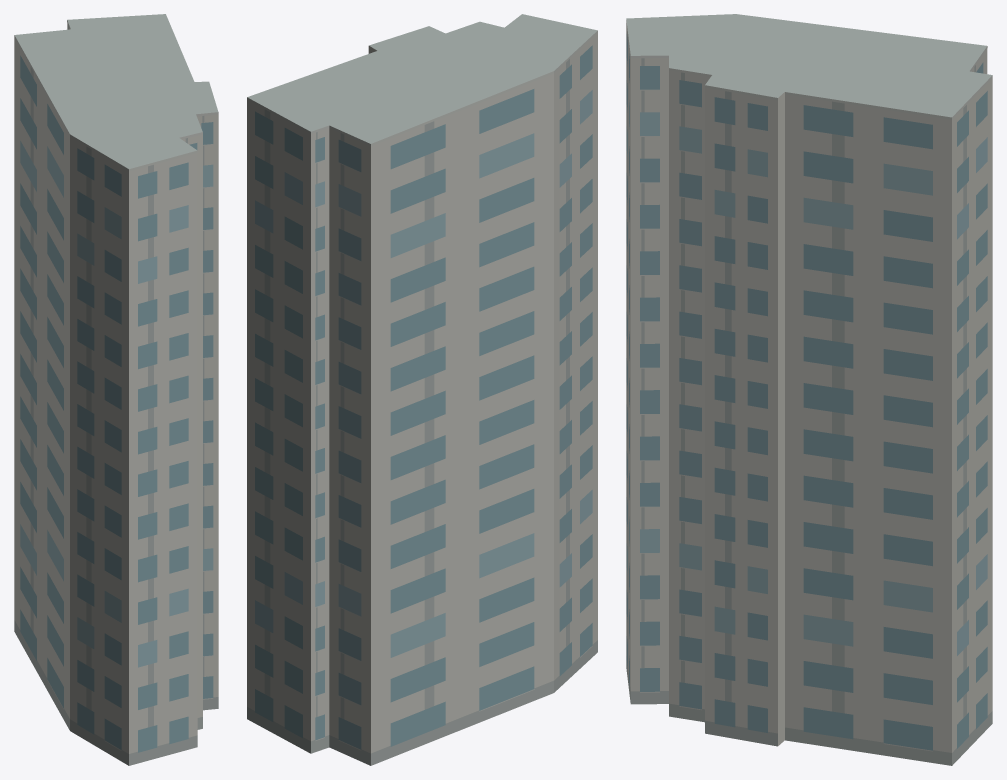
File: residential-6d65dacc-f3d1-4aae-8ded-cd75b1d3d5c8.glb
3 views of the same model, side by side, from view 1: azimuth 30°, elevation 25°; view 2: azimuth 150°, elevation 25°; view 3: azimuth 270°, elevation 25° (orthographic). The views are drawn at different scales.
Visible parts, largest first — view 1: residential-6d65dacc-f3d1-4aae-8ded-cd75b1d3d5c8.tmp; view 2: residential-6d65dacc-f3d1-4aae-8ded-cd75b1d3d5c8.tmp; view 3: residential-6d65dacc-f3d1-4aae-8ded-cd75b1d3d5c8.tmp.
Part boxes in pixels (x1=…): residential-6d65dacc-f3d1-4aae-8ded-cd75b1d3d5c8.tmp: x1=14, y1=14, x2=218, y2=765; residential-6d65dacc-f3d1-4aae-8ded-cd75b1d3d5c8.tmp: x1=247, y1=14, x2=597, y2=765; residential-6d65dacc-f3d1-4aae-8ded-cd75b1d3d5c8.tmp: x1=626, y1=14, x2=992, y2=765.
Size of the model in its own units: 21.91 by 64 by 32.78.
